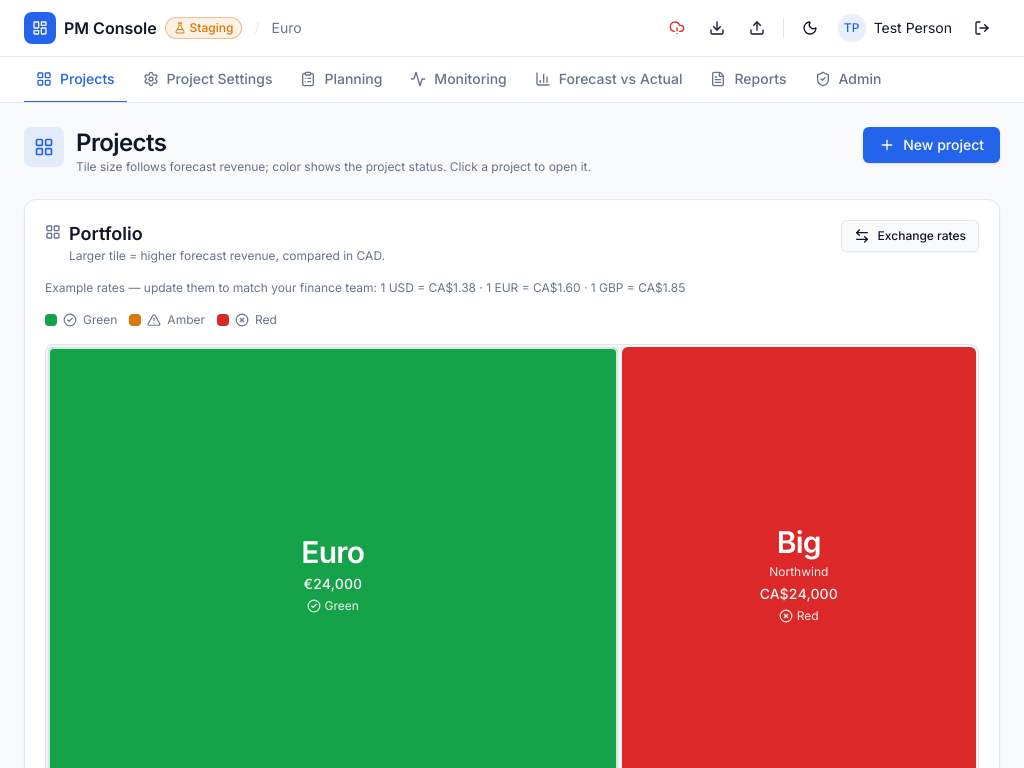
it: Projects in different currencies › saves new exchange rates from the dialog
Click the button "Exchange rates" at (910, 236), box 841,220 -> 979,252
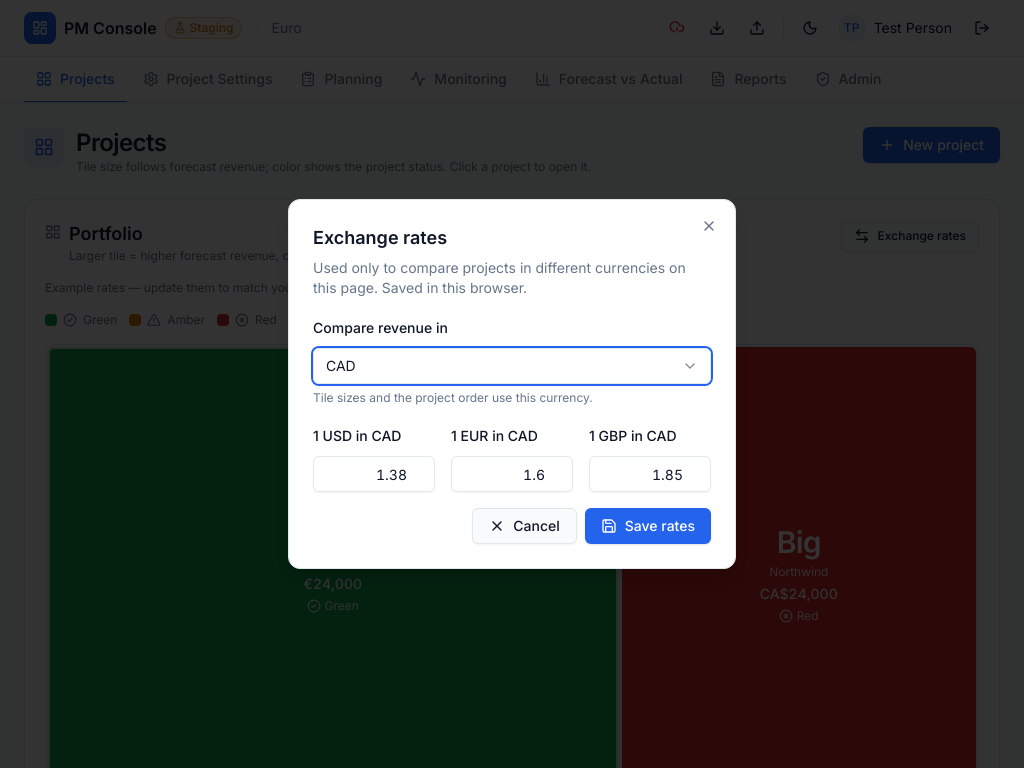
Replace the text in the number field labelled "1 EUR in CAD" with "0.5" at (512, 474), box 451,456 -> 573,492
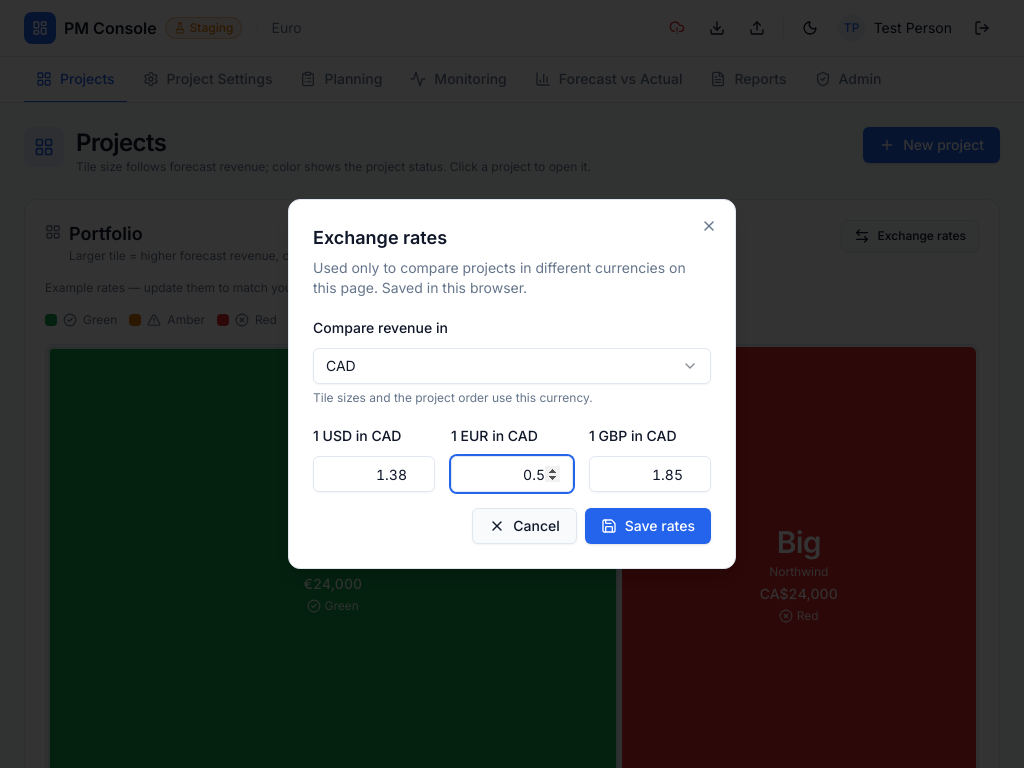
Click the button "Save rates" at (648, 526), box 585,508 -> 711,544
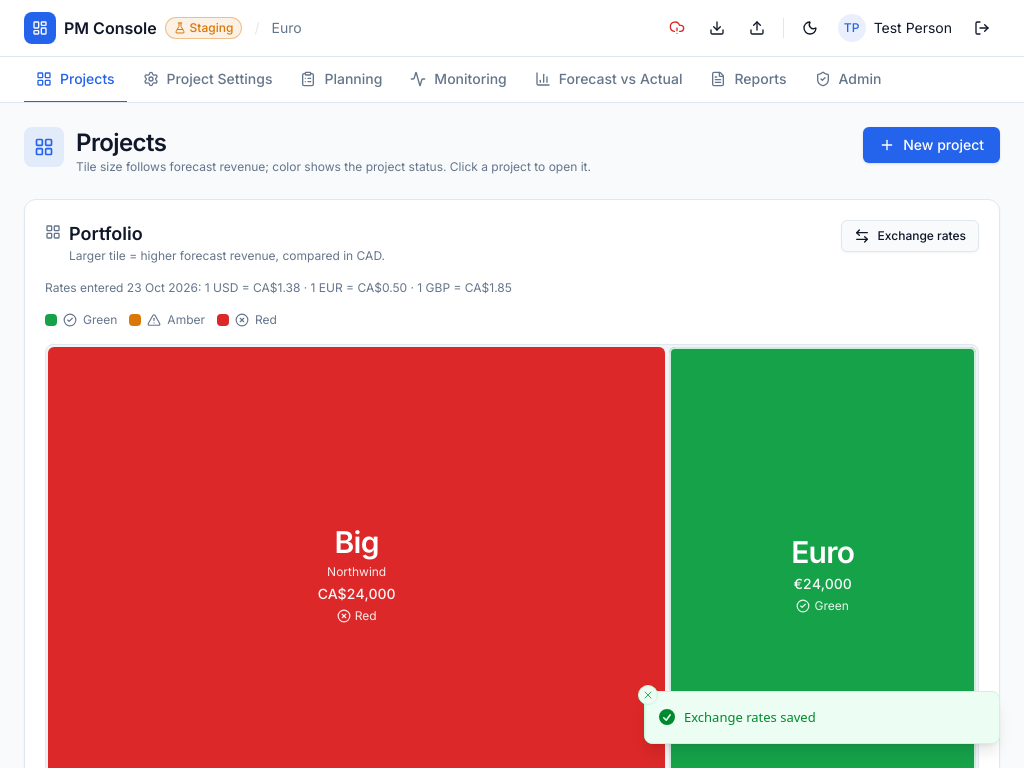
Check: the text "Rates entered" is shown, box 45,280 -> 198,295
